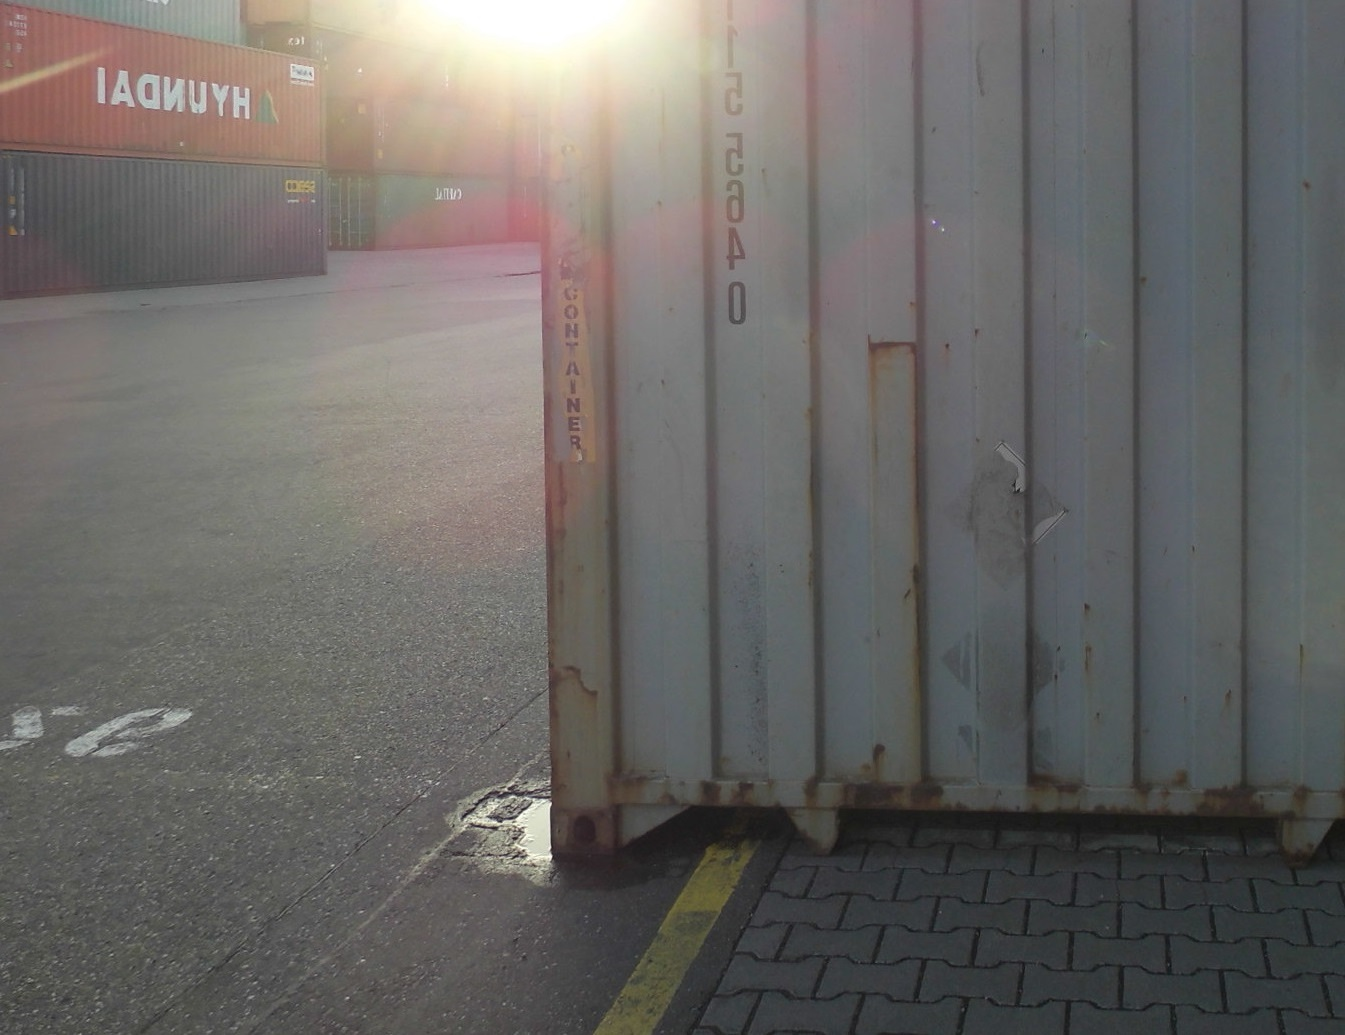container_no_door: (547, 3, 1343, 852)
